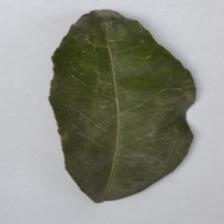healthy: (51, 7, 196, 203)
